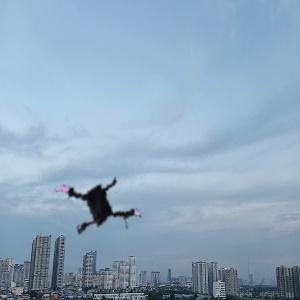drone: (47, 157, 152, 262)
